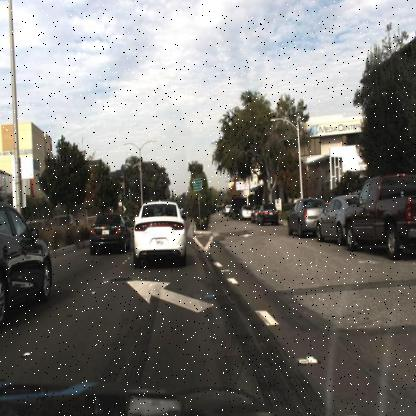car: (342, 170, 414, 262), (0, 204, 52, 328), (129, 197, 188, 268), (314, 192, 356, 243), (88, 209, 130, 258), (313, 190, 351, 242), (285, 198, 324, 238), (256, 202, 279, 228), (240, 207, 252, 225)
truck: (229, 193, 250, 216)
